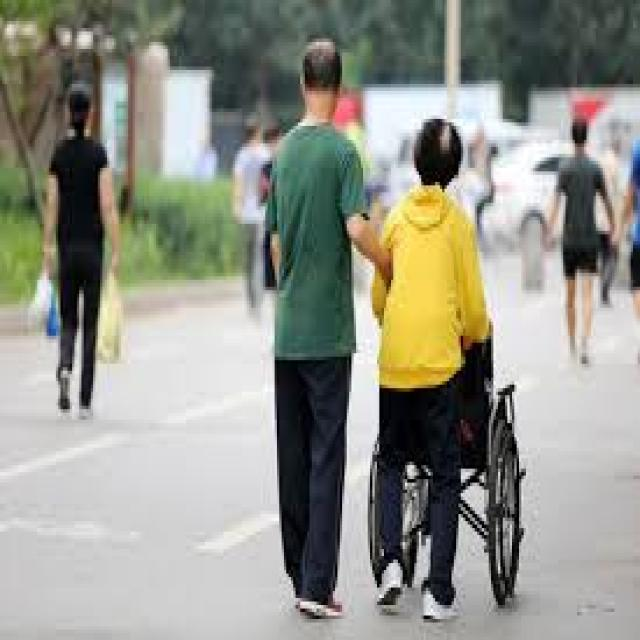wheelchairs: (363, 297, 535, 612)
